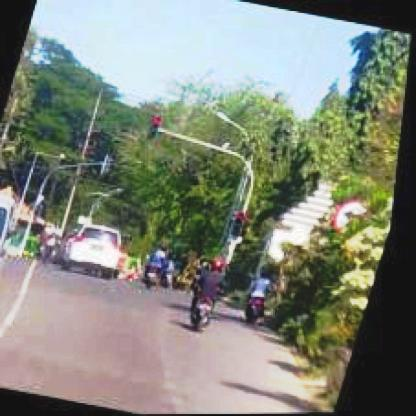Traffic Light -Red-: (237, 212, 254, 240), (149, 115, 166, 142)
